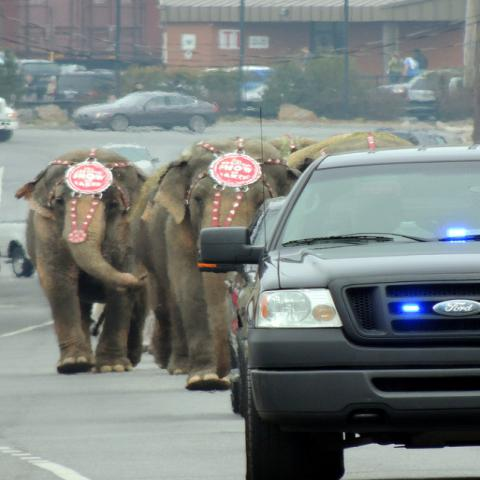car: (199, 107, 479, 480), (71, 90, 222, 134), (204, 65, 278, 108), (0, 50, 60, 103), (358, 84, 436, 117), (55, 73, 111, 99), (0, 94, 18, 142)
